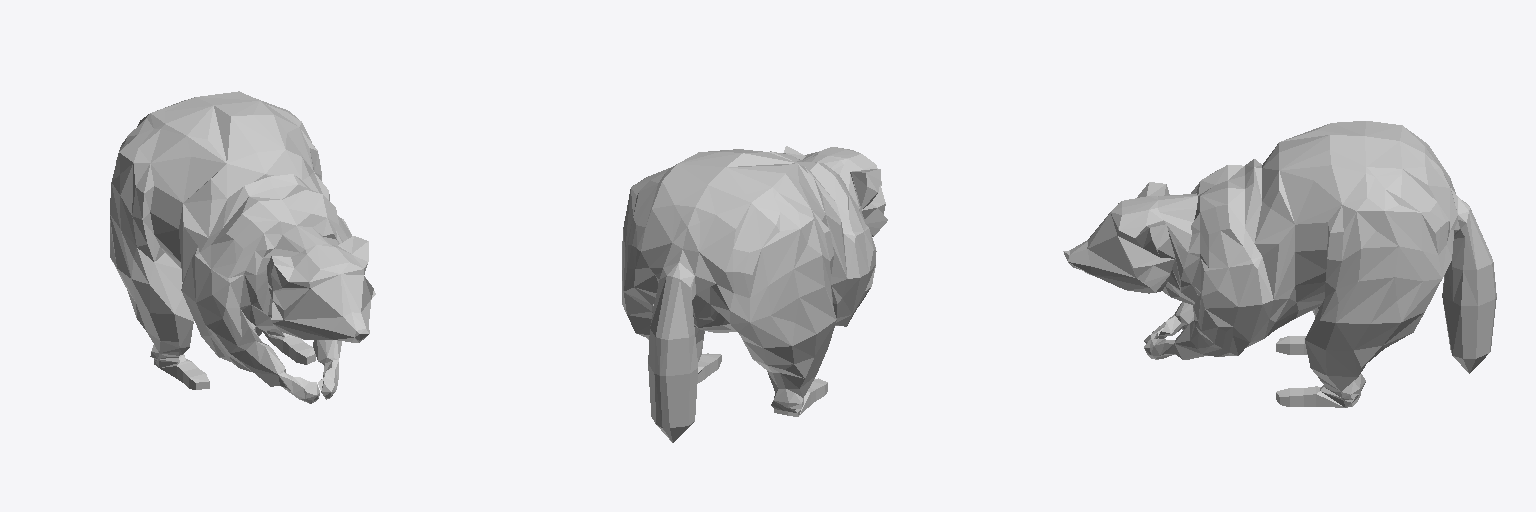
The model's file is raccoon.obj.
3 renders of one model, left to right at view 1: azimuth 30°, elevation 25°; view 2: azimuth 150°, elevation 25°; view 3: azimuth 270°, elevation 25°, orthographic.
Visible parts, largest first — view 1: racoon_geo; view 2: racoon_geo; view 3: racoon_geo.
Boxes of the visible parts, x1,y1,x2,y2 form: racoon_geo: [110, 91, 375, 403]; racoon_geo: [622, 146, 887, 442]; racoon_geo: [1063, 121, 1496, 407].
Size of the model in its own units: 0.3658 by 0.4384 by 0.711.